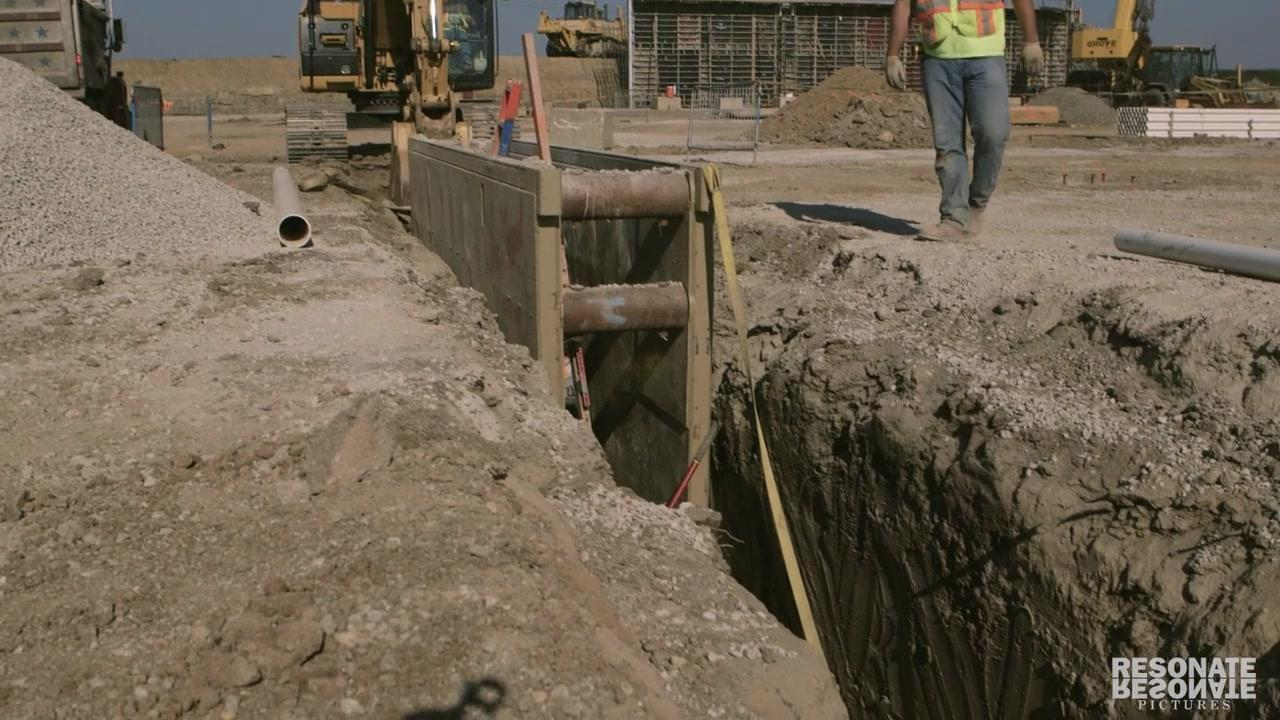vest: (911, 0, 1005, 51)
